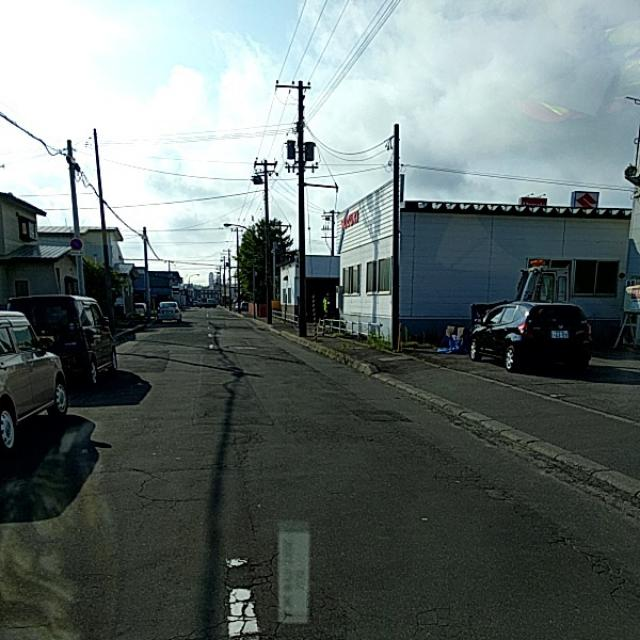pothole: (412, 384, 580, 491), (136, 425, 202, 515)
